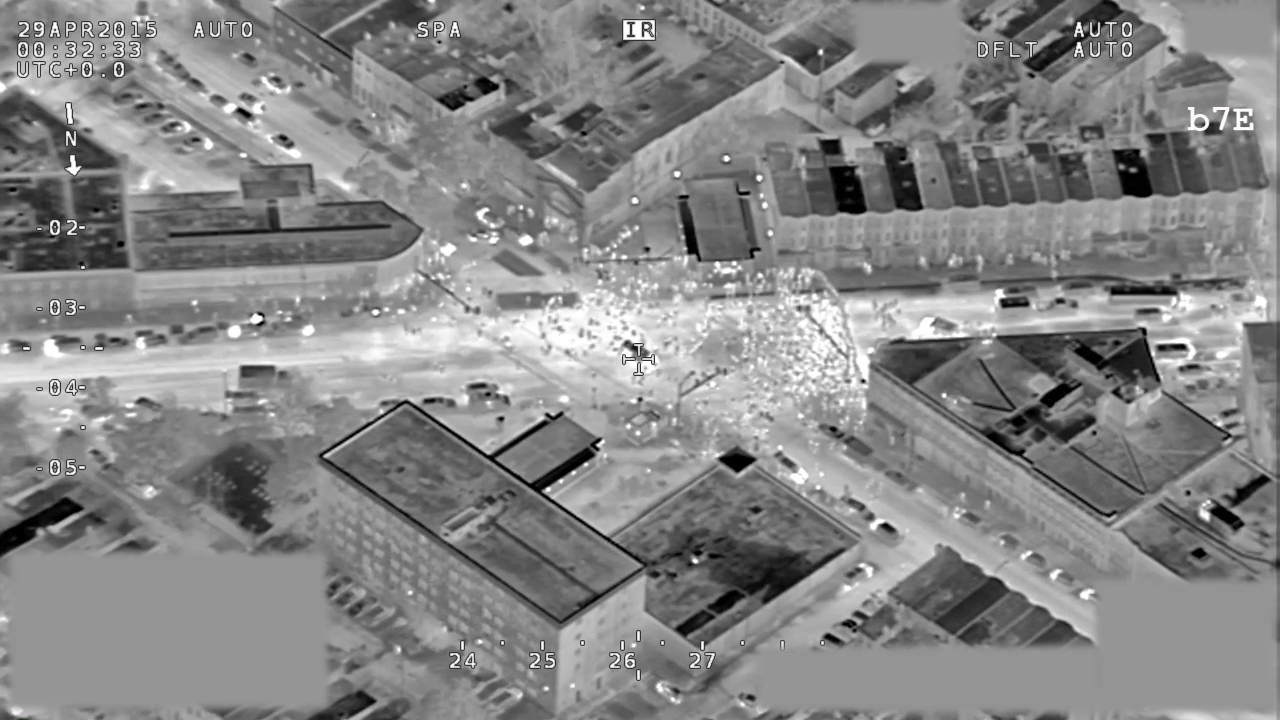vehicle: (1106, 281, 1183, 312), (238, 363, 297, 389), (773, 452, 811, 485), (151, 49, 188, 82), (465, 391, 511, 414), (619, 339, 654, 369), (843, 561, 879, 590), (653, 677, 687, 707), (917, 314, 959, 338), (43, 335, 83, 359), (1154, 342, 1201, 362), (992, 283, 1039, 302), (180, 326, 219, 348), (953, 507, 987, 531), (871, 518, 901, 545), (1049, 563, 1077, 591), (179, 133, 213, 156), (840, 495, 875, 517), (137, 330, 172, 352), (1132, 307, 1177, 324), (884, 470, 915, 494), (995, 299, 1034, 318), (474, 205, 505, 228), (1043, 297, 1082, 315), (990, 531, 1019, 555), (158, 120, 190, 140), (95, 336, 130, 354), (421, 395, 458, 412), (1055, 280, 1096, 295), (230, 107, 259, 128), (268, 128, 294, 151), (131, 100, 166, 117), (1, 338, 32, 357), (1020, 548, 1046, 570), (263, 71, 289, 93), (816, 420, 844, 440), (239, 91, 267, 111), (144, 111, 173, 130), (233, 49, 260, 69), (208, 93, 234, 111), (463, 380, 502, 392), (113, 90, 142, 106), (187, 79, 210, 96)
